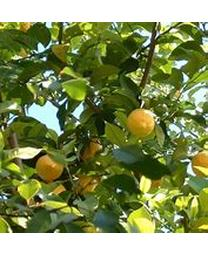lemon: (128, 109, 154, 137), (36, 155, 63, 181)
